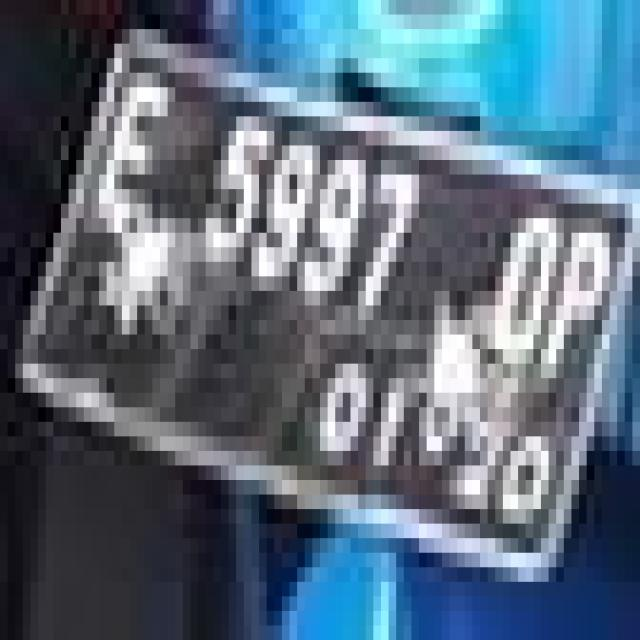plate: (15, 14, 632, 582)
